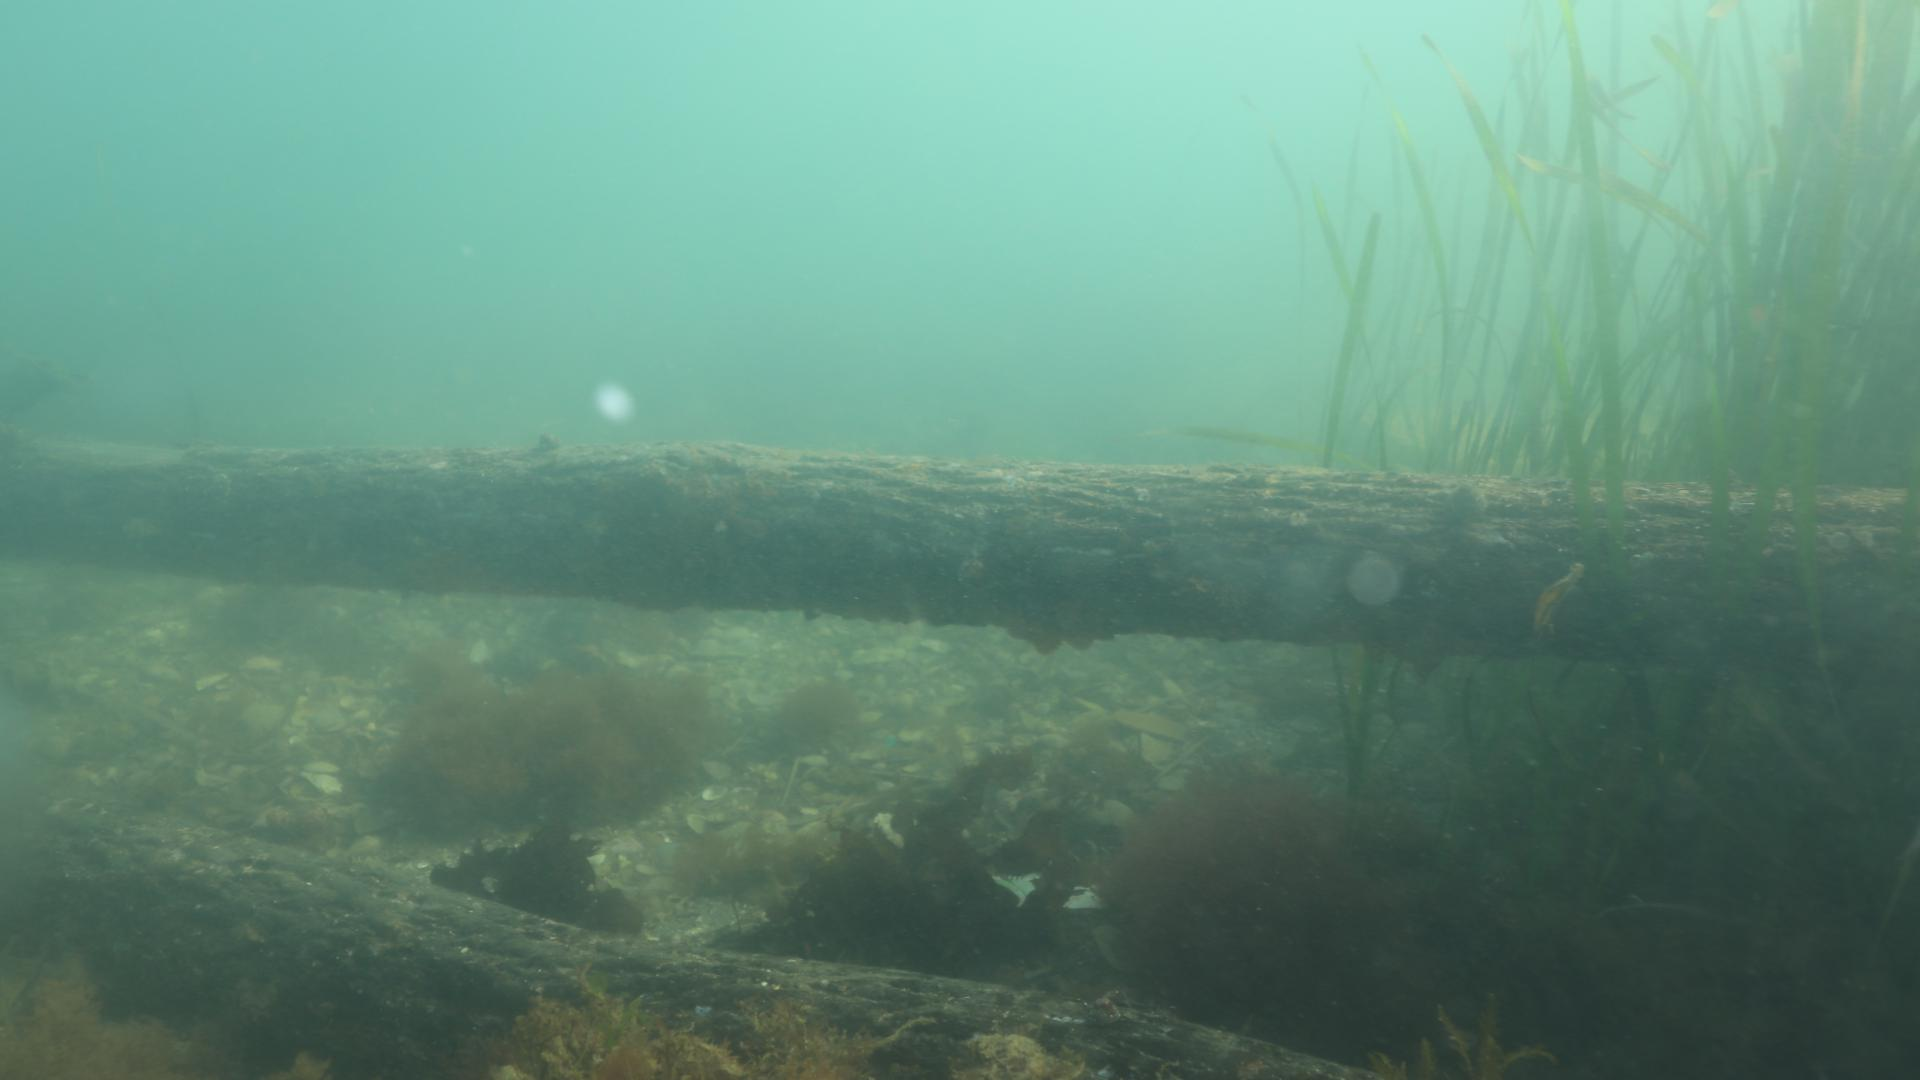wood: (0, 422, 1920, 661)
